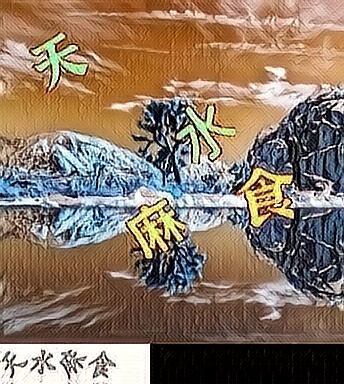C2E9: (125, 194, 188, 260)
CAB3: (233, 166, 296, 232)
CBAE: (174, 98, 237, 164)
CCEC: (28, 25, 91, 91)
